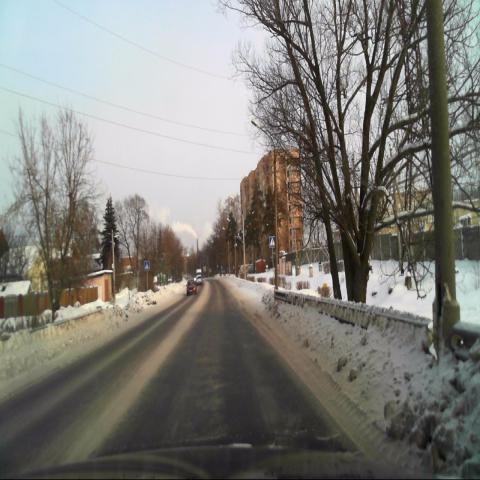5_19_1: (268, 236, 276, 247)
